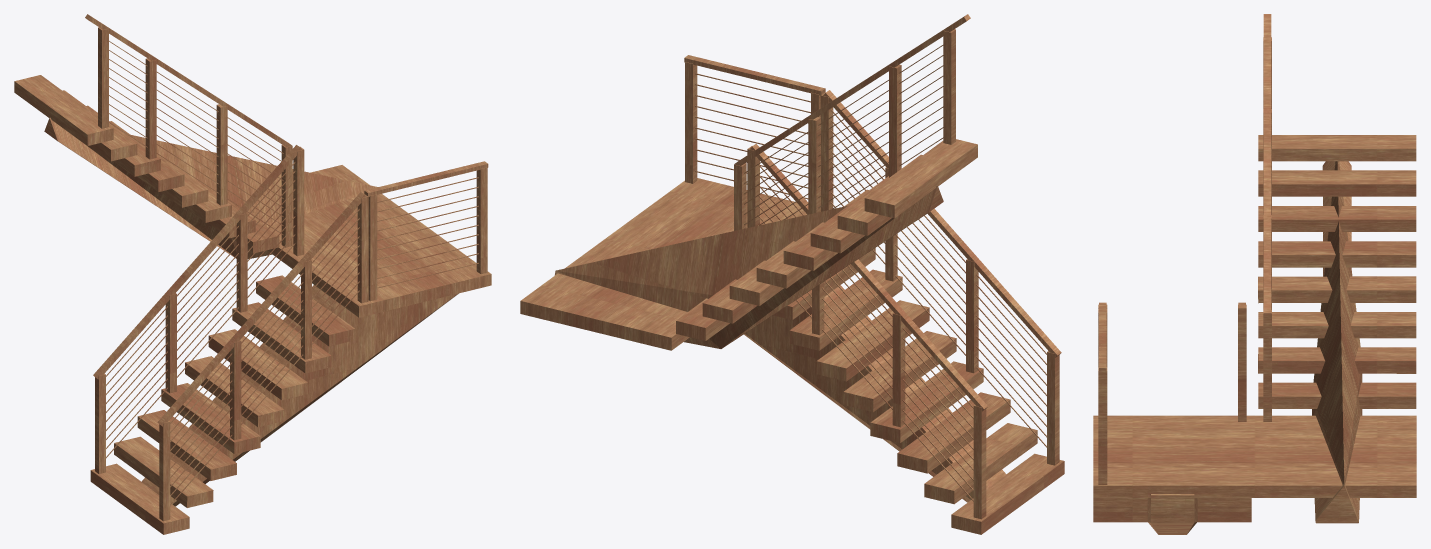
The model's file is stairs.glb.
3 views of the same model, side by side, from view 1: azimuth 30°, elevation 25°; view 2: azimuth 150°, elevation 25°; view 3: azimuth 270°, elevation 25° (orthographic). The views are drawn at different scales.
Parts seen in each view (by area): view 1: geometry_0; view 2: geometry_0; view 3: geometry_0.
Part boxes in pixels (bbox=[...]): geometry_0: bbox=[14, 14, 491, 534]; geometry_0: bbox=[520, 14, 1064, 534]; geometry_0: bbox=[1093, 14, 1416, 534].
Size of the model in its own units: 3.06 by 4.12 by 2.38.
1 material, 1 textured.
